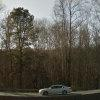Tree: (5, 6, 73, 67)
